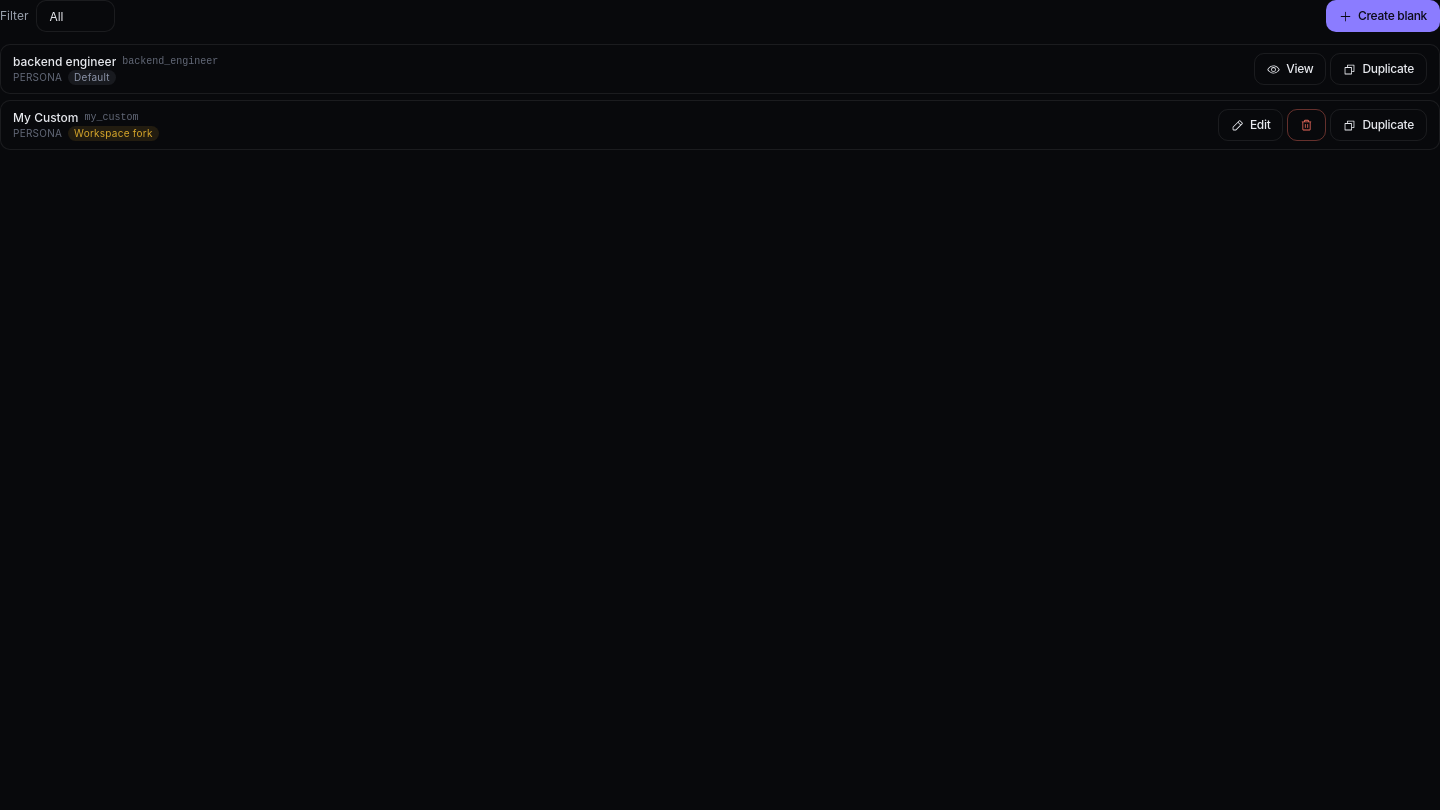
Scenario: TemplateManager (TPL-1/2 UI) › View opens a read-only rendered markdown preview of a default
This screenshot has width=1440, height=810.
Expected: the text "backend engineer" is shown, [13,54,116,70]
Click the button with aria-label "View backend engineer": [1290, 69] box [1254,53,1326,85]
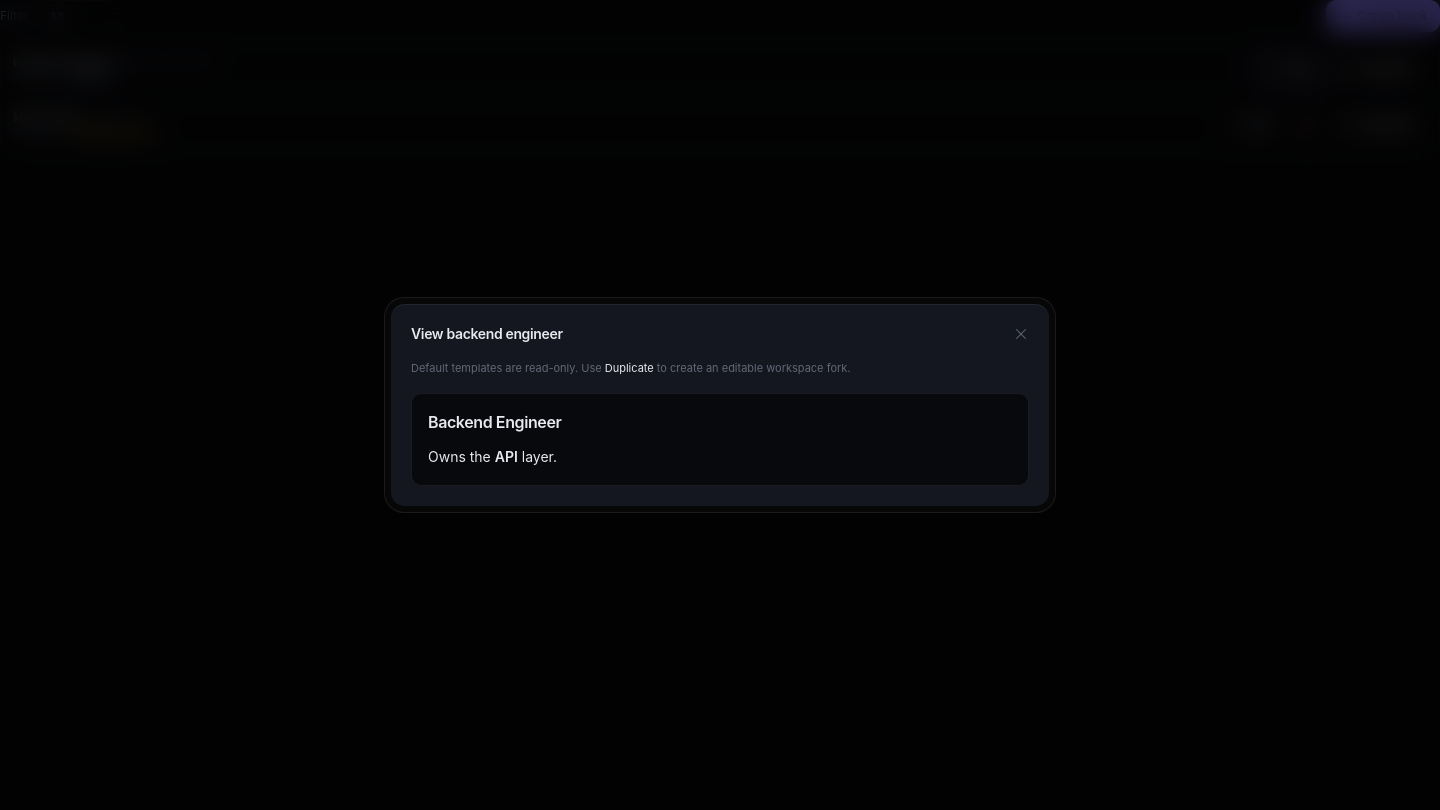
Expected: the heading "Backend Engineer" is shown, [428,412,561,432]
